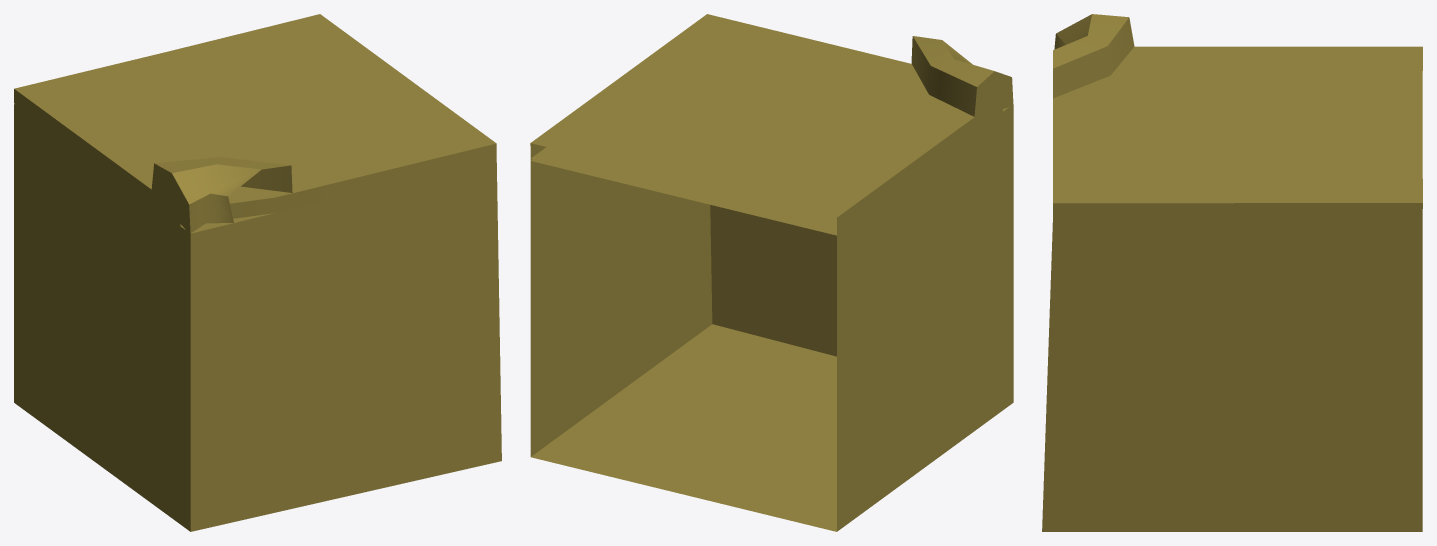
Rendered from Int_2_Block_Corner_U_R.fbx.
The picture shows the model from 3 angles, left to right: view 1: azimuth 30°, elevation 25°; view 2: azimuth 150°, elevation 25°; view 3: azimuth 270°, elevation 25°; orthographic projection. The views are drawn at different scales.
Visible parts, largest first — view 1: Int_2_Block_Corner_U_R; view 2: Int_2_Block_Corner_U_R; view 3: Int_2_Block_Corner_U_R.
Part boxes in pixels (x1,y1,x2,y2): Int_2_Block_Corner_U_R: (14, 14, 501, 531); Int_2_Block_Corner_U_R: (530, 14, 1013, 531); Int_2_Block_Corner_U_R: (1042, 14, 1422, 531).
Size of the model in its own units: 1 by 1.08 by 1.03.
